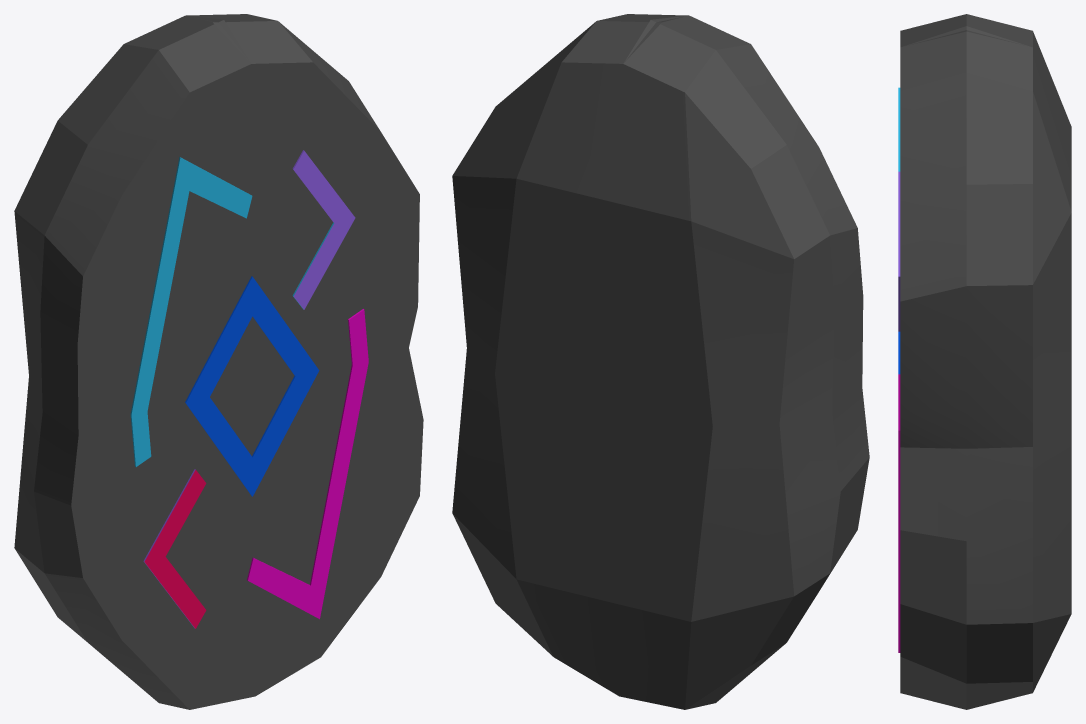
File: rune.fbx
The picture shows the model from 3 angles, left to right: view 1: azimuth 30°, elevation 25°; view 2: azimuth 150°, elevation 25°; view 3: azimuth 270°, elevation 25°; orthographic projection.
Visible parts, largest first — view 1: Cube, Cube.001; view 2: Cube; view 3: Cube, Cube.001.
Part boxes in pixels (left/top/right/bottom): Cube: left=14, top=14, right=423, bottom=709; Cube.001: left=130, top=150, right=368, bottom=628; Cube: left=452, top=14, right=869, bottom=709; Cube: left=900, top=14, right=1071, bottom=709; Cube.001: left=898, top=87, right=900, bottom=652.
Size of the model in its own units: 77.46 by 138 by 32.17.
